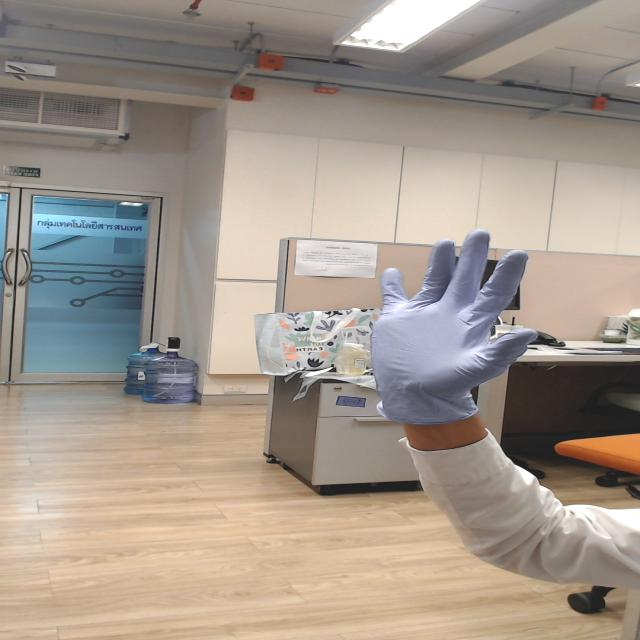glove: (350, 229, 544, 378)
